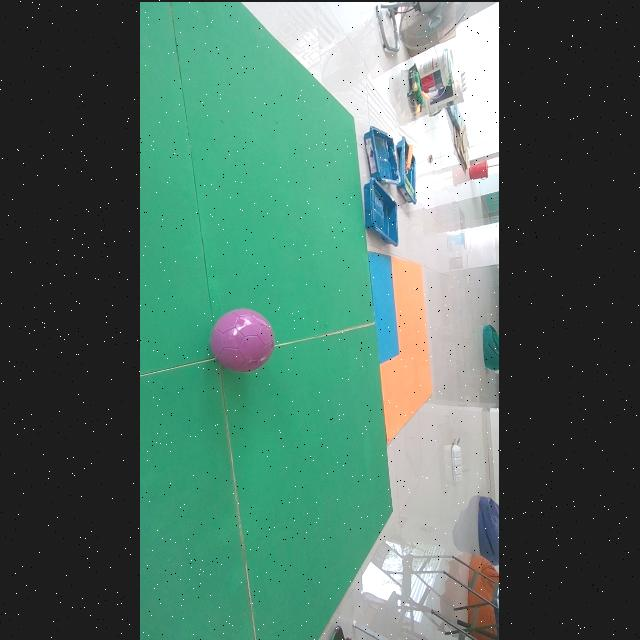P: (211, 307, 276, 371)
